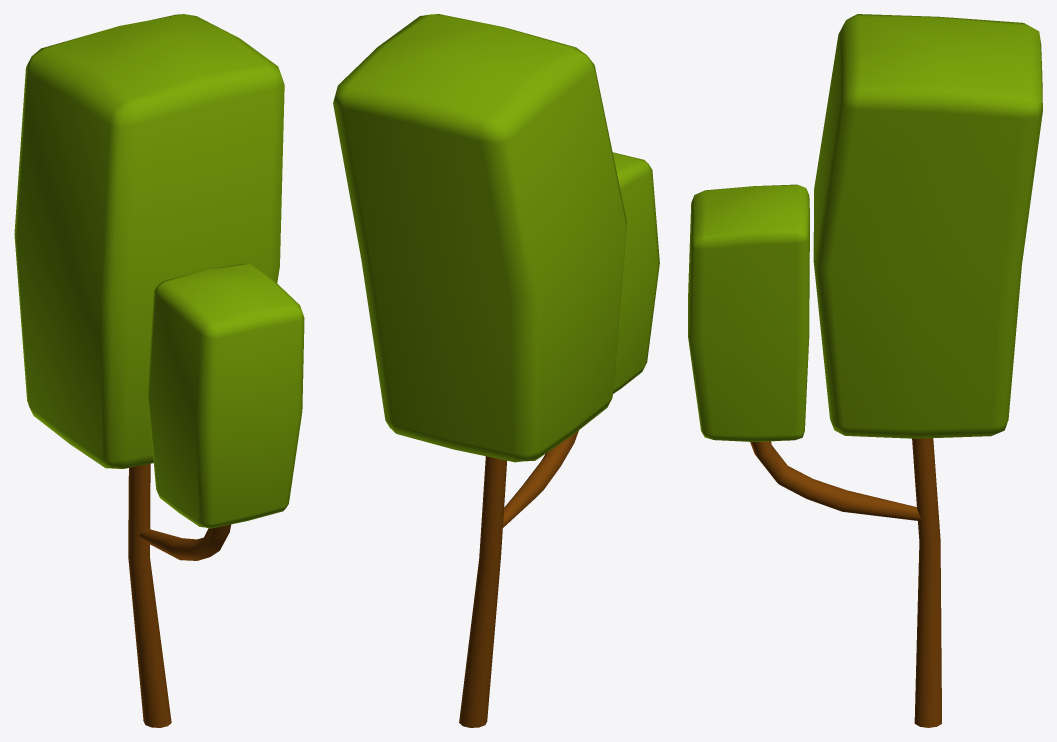
Rendered from TreeBox.fbx.
The picture shows the model from 3 angles, left to right: view 1: azimuth 30°, elevation 25°; view 2: azimuth 150°, elevation 25°; view 3: azimuth 270°, elevation 25°; orthographic projection.
Visible parts, largest first — view 1: Bush, Trunk; view 2: Bush, Trunk; view 3: Bush, Trunk.
Part boxes in pixels (left/top/right/bottom): Bush: left=14, top=14, right=304, bottom=528; Trunk: left=128, top=463, right=231, bottom=727; Bush: left=333, top=14, right=659, bottom=462; Trunk: left=459, top=430, right=578, bottom=727; Bush: left=688, top=14, right=1042, bottom=442; Trunk: left=750, top=438, right=941, bottom=727.
Bounding box in the file's own units: 285 × 932 × 438.
